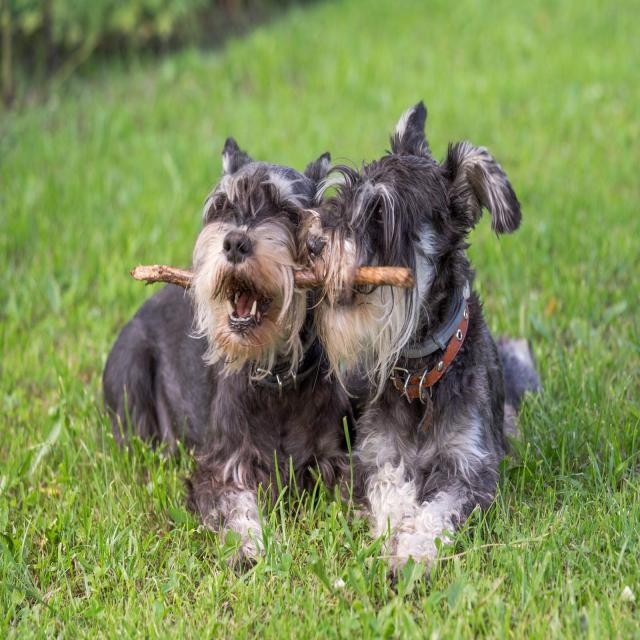Dog: (297, 96, 533, 326), (192, 132, 313, 373)
